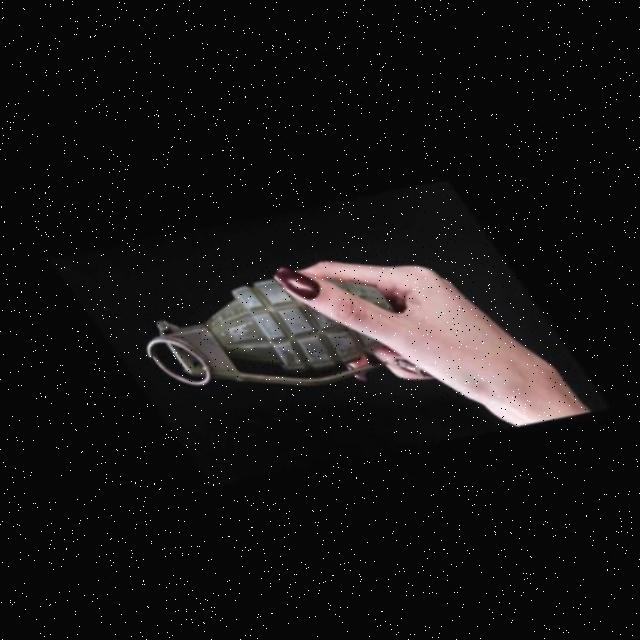grenade: (120, 184, 438, 466)
